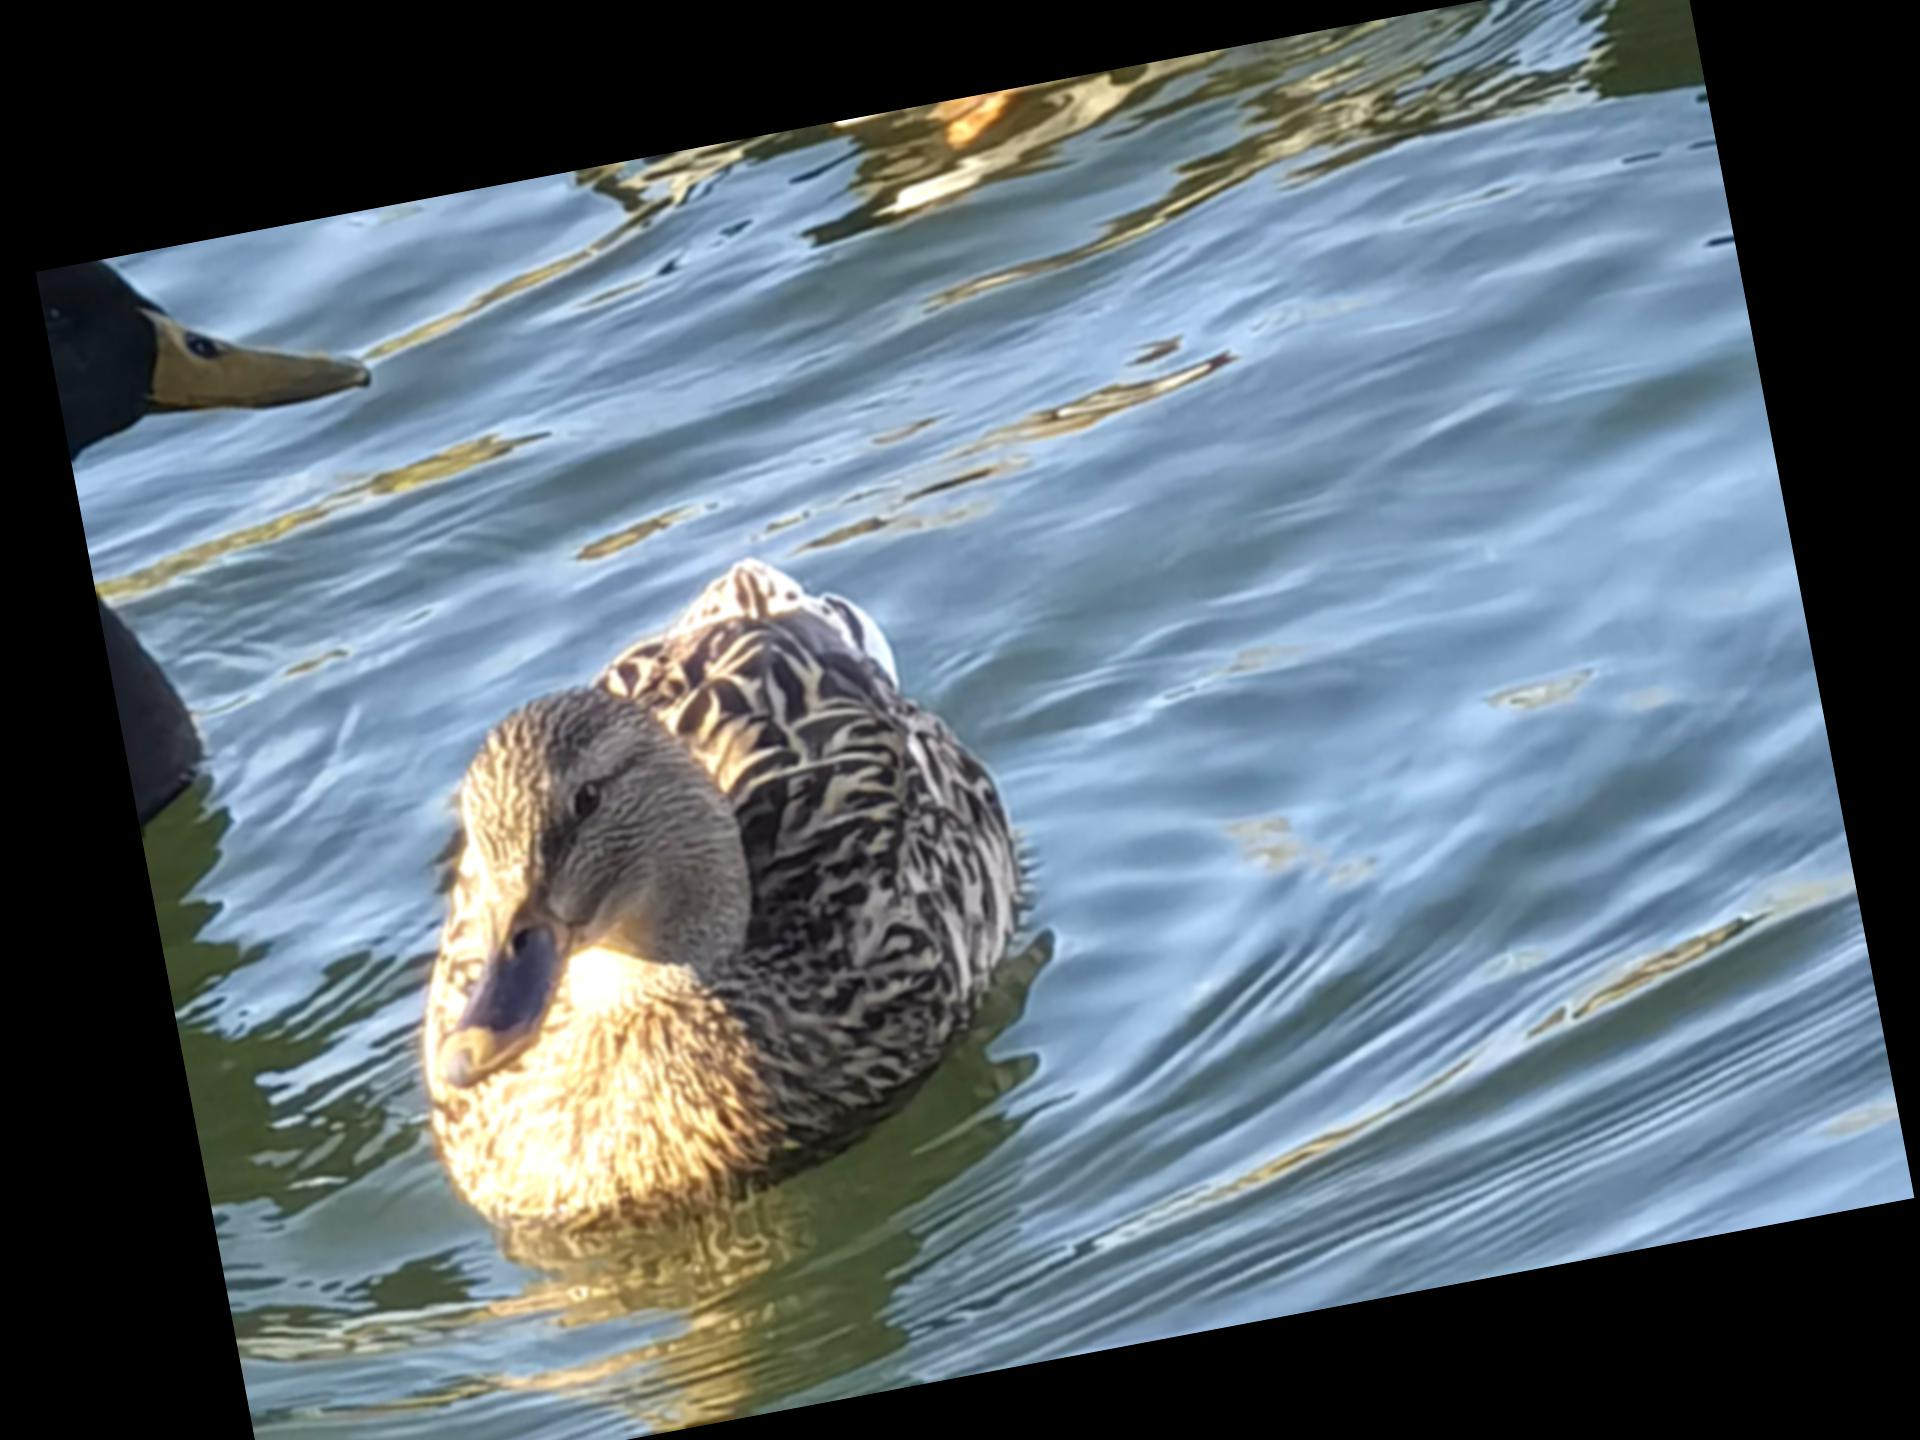duck: (296, 475, 1093, 1262)
